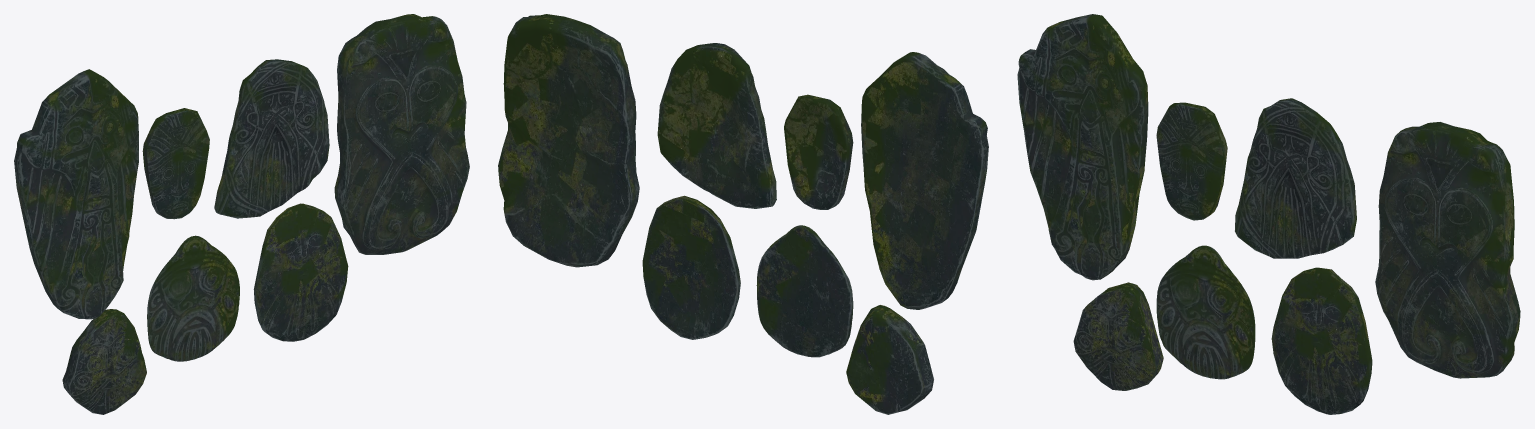
File: elder_stones.glb
3 views of the same model, side by side, from view 1: azimuth 30°, elevation 25°; view 2: azimuth 150°, elevation 25°; view 3: azimuth 330°, elevation 25° (orthographic). The views are drawn at different scales.
Visible parts, largest first — view 1: defaultMaterial; view 2: defaultMaterial; view 3: defaultMaterial.
Boxes of the visible parts, x1,y1,x2,y2 form: defaultMaterial: (14,14,469,414); defaultMaterial: (498,14,988,414); defaultMaterial: (1017,14,1520,414).
Bounding box in the file's own units: 2 × 1.45 × 0.221.
1 material, 1 textured.
